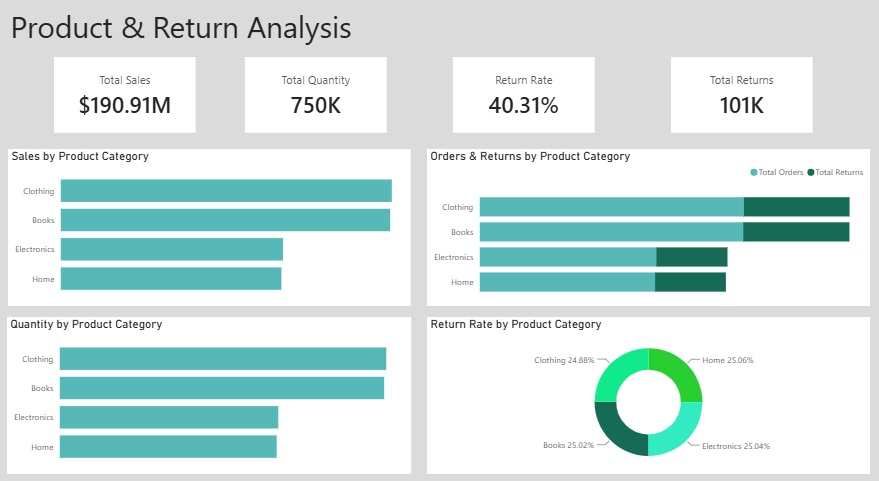

Layout of this report page (visuals, bound fields, positions):
{"tool":"powerbi","page":{"name":"Product & Return","canvas":[1280,720],"ordinal":2},"visuals":[{"type":"donutChart","fields":{"Category":["transactions.product_category"],"Y":["_Measures.Return Rate"]},"box":[626.4,468,637.9,226.1],"z":0},{"type":"barChart","title":"Sales by Product Category","fields":{"Category":["transactions.product_category"],"Y":["Sum(transactions.total_price)"]},"box":[23,226.1,580.3,226.1],"z":1000},{"type":"barChart","title":"Quantity  by Product Category","fields":{"Category":["transactions.product_category"],"Y":["_Measures.Total Quantity"]},"box":[21.6,468,581.8,226.1],"z":2000},{"type":"barChart","title":"Orders & Returns by Product Category","fields":{"Category":["transactions.product_category"],"Y":["_Measures.Total Orders","_Measures.Total Returns"]},"box":[626.4,226.1,637.9,226.1],"z":3000},{"type":"cardVisual","fields":{"Data":["_Measures.Total Sales"]},"box":[89.3,93.6,204.5,109.4],"z":4000},{"type":"cardVisual","fields":{"Data":["_Measures.Total Quantity"]},"box":[364.3,93.6,204.5,109.4],"z":5000},{"type":"cardVisual","fields":{"Data":["_Measures.Return Rate"]},"box":[663.8,93.6,204.5,109.4],"z":6000},{"type":"cardVisual","fields":{"Data":["_Measures.Total Returns"]},"box":[977.8,93.6,204.5,109.4],"z":7000},{"type":"textbox","box":[21.6,15.8,527,77.8],"z":9000}]}

Visuals, with their boxes in screenshot pixels (x1, y1, x2, y2), scaled from the page's 1280x720 canvas onto the 879x481 screenshot:
donutChart - transactions.product_category x _Measures.Return Rate: <box>430,313,868,464</box>
"Sales by Product Category" barChart: <box>16,151,414,302</box>
"Quantity  by Product Category" barChart: <box>15,313,414,464</box>
"Orders & Returns by Product Category" barChart: <box>430,151,868,302</box>
cardVisual - _Measures.Total Sales: <box>61,63,202,136</box>
cardVisual - _Measures.Total Quantity: <box>250,63,391,136</box>
cardVisual - _Measures.Return Rate: <box>456,63,596,136</box>
cardVisual - _Measures.Total Returns: <box>671,63,812,136</box>
textbox: <box>15,11,377,63</box>
